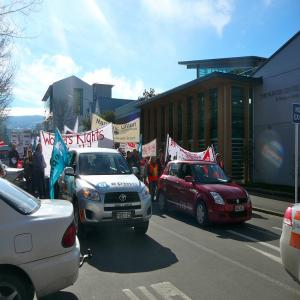Vehicle-registration-plate: (117, 212, 132, 220)
